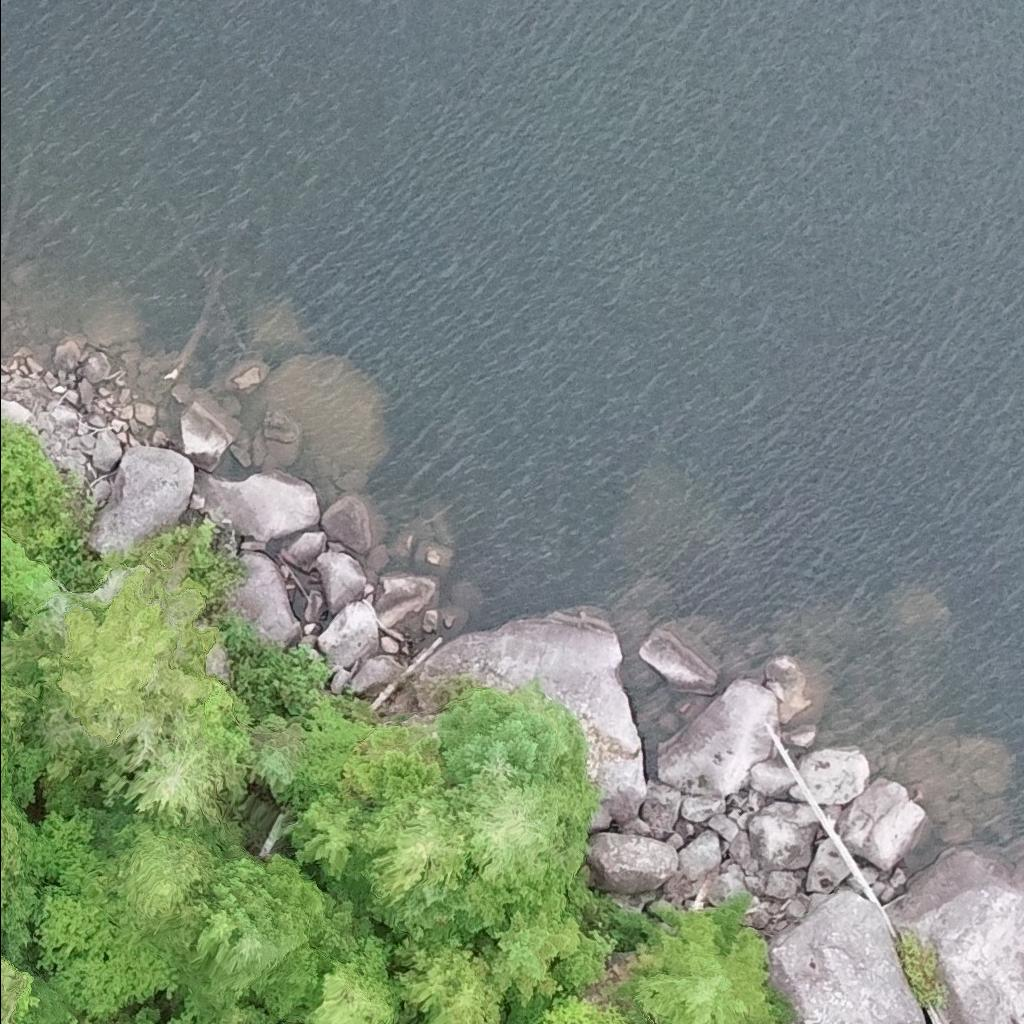crown: (57, 567, 219, 745), (448, 765, 597, 892), (100, 813, 224, 946), (633, 909, 776, 1023), (99, 710, 232, 828), (435, 683, 582, 787), (359, 783, 469, 914), (337, 720, 458, 812), (480, 907, 576, 1008), (416, 940, 505, 1023), (298, 959, 406, 1023), (250, 713, 304, 802), (0, 668, 41, 747), (0, 944, 28, 1023), (209, 1001, 265, 1023), (667, 1012, 713, 1023), (663, 1023, 667, 1023)
